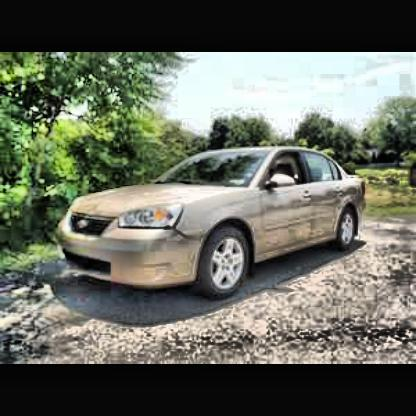Chevrolet Malibu Sedan 2007: (53, 145, 369, 304)
